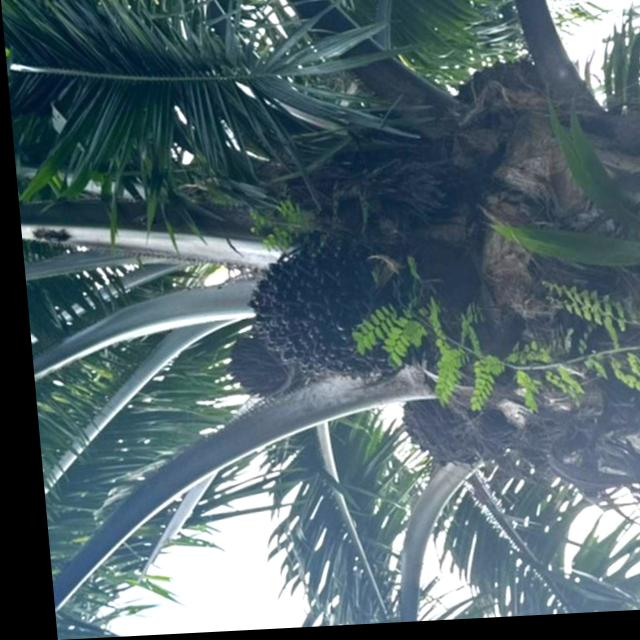almost: (236, 240, 404, 391)
